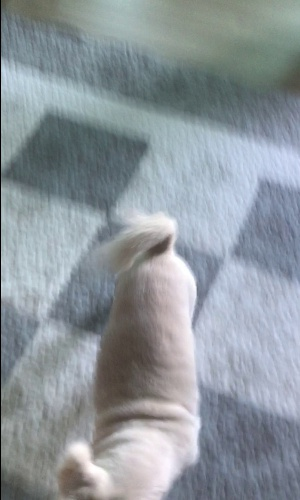ddubi: (52, 205, 203, 500)
